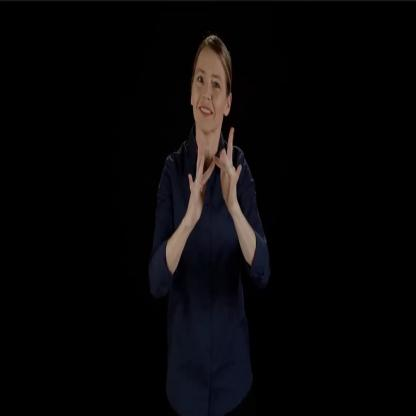Internet: (188, 123, 246, 227)
